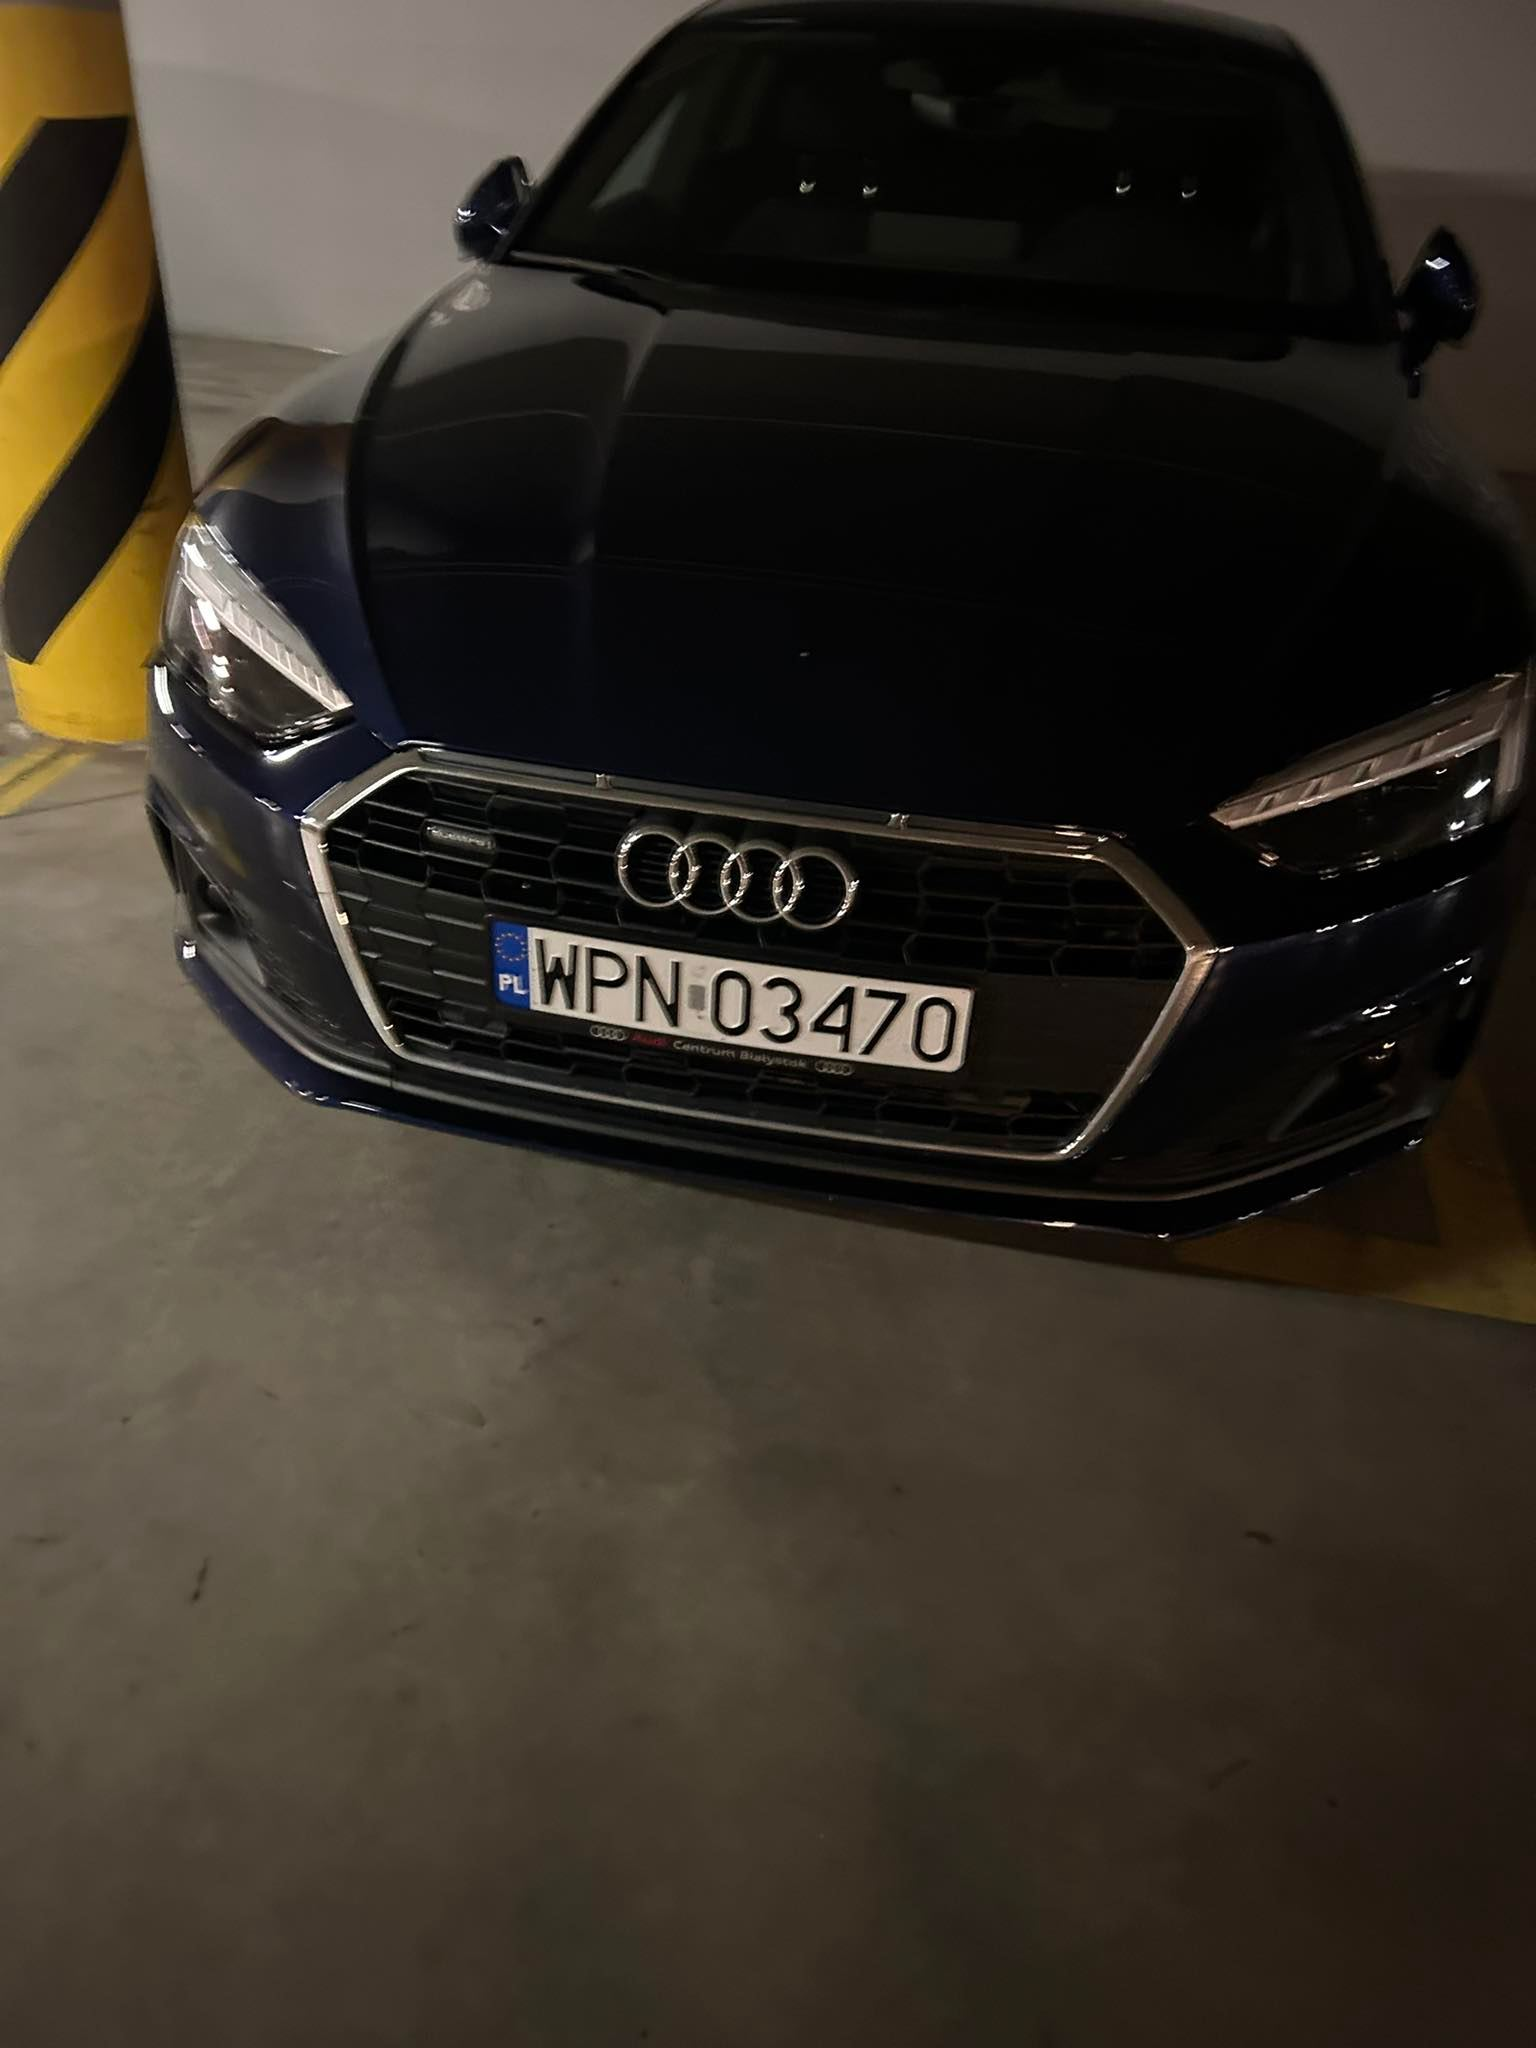number_plate: (488, 912, 979, 1081)
